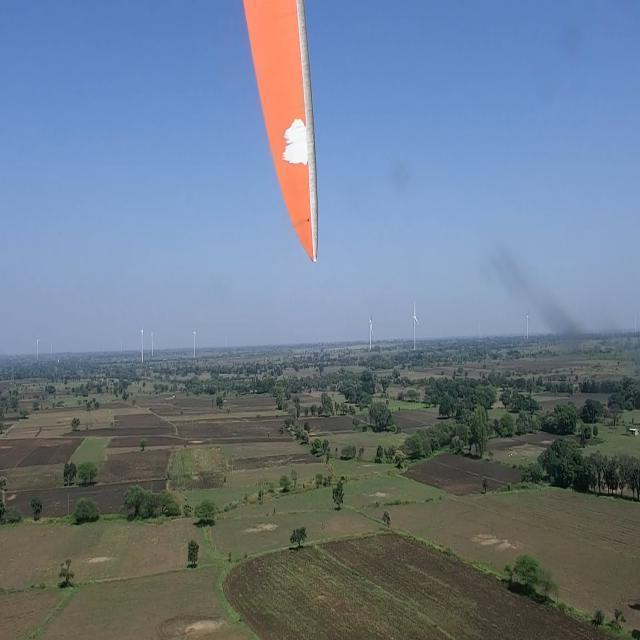PU-tape: (278, 116, 309, 169)
